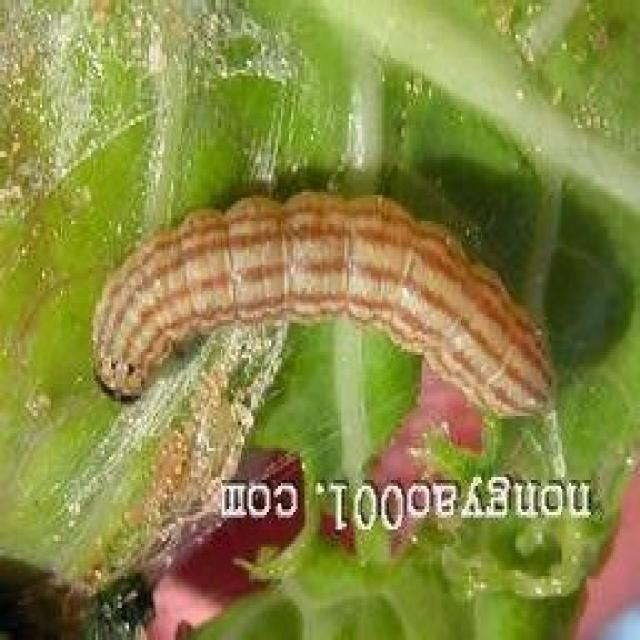peach borer: (86, 181, 557, 426)
